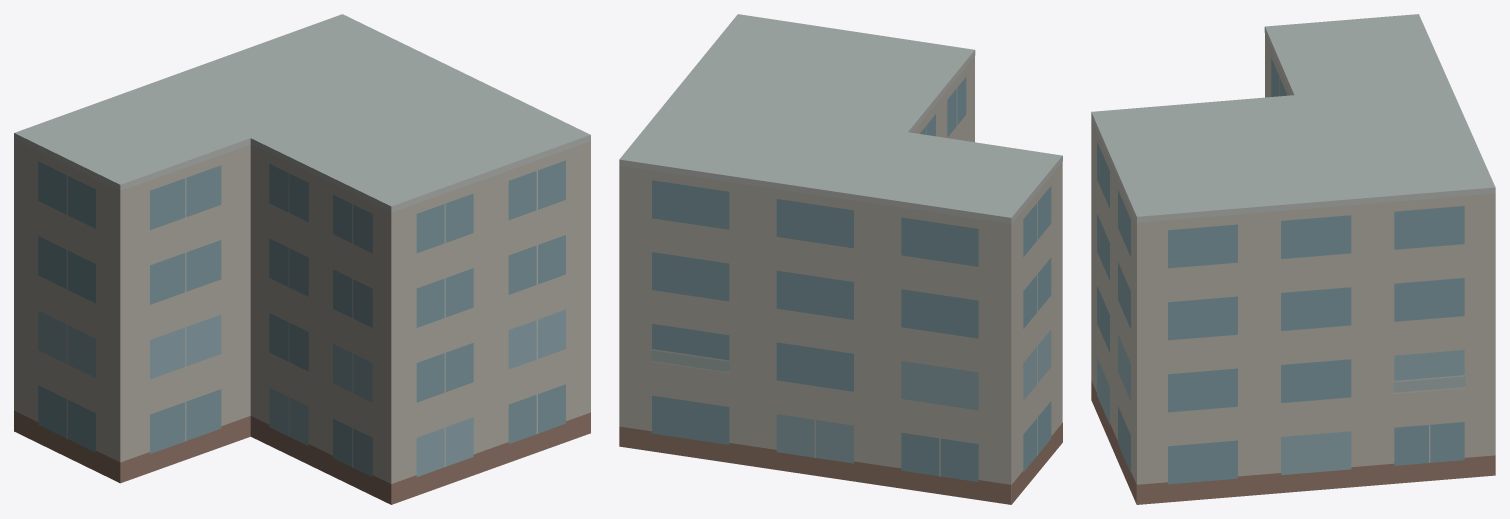
File: survey-upis-33023596.glb
3 views of the same model, side by side, from view 1: azimuth 30°, elevation 25°; view 2: azimuth 150°, elevation 25°; view 3: azimuth 270°, elevation 25° (orthographic). The views are drawn at different scales.
Parts seen in each view (by area): view 1: survey-upis-33023596.tmp; view 2: survey-upis-33023596.tmp; view 3: survey-upis-33023596.tmp.
Boxes of the visible parts, box(x1,y1,x2,y2) form: survey-upis-33023596.tmp: box(14, 14, 590, 504); survey-upis-33023596.tmp: box(619, 14, 1062, 504); survey-upis-33023596.tmp: box(1091, 14, 1495, 504).
Size of the model in its own units: 17.53 by 11.6 by 14.76.
